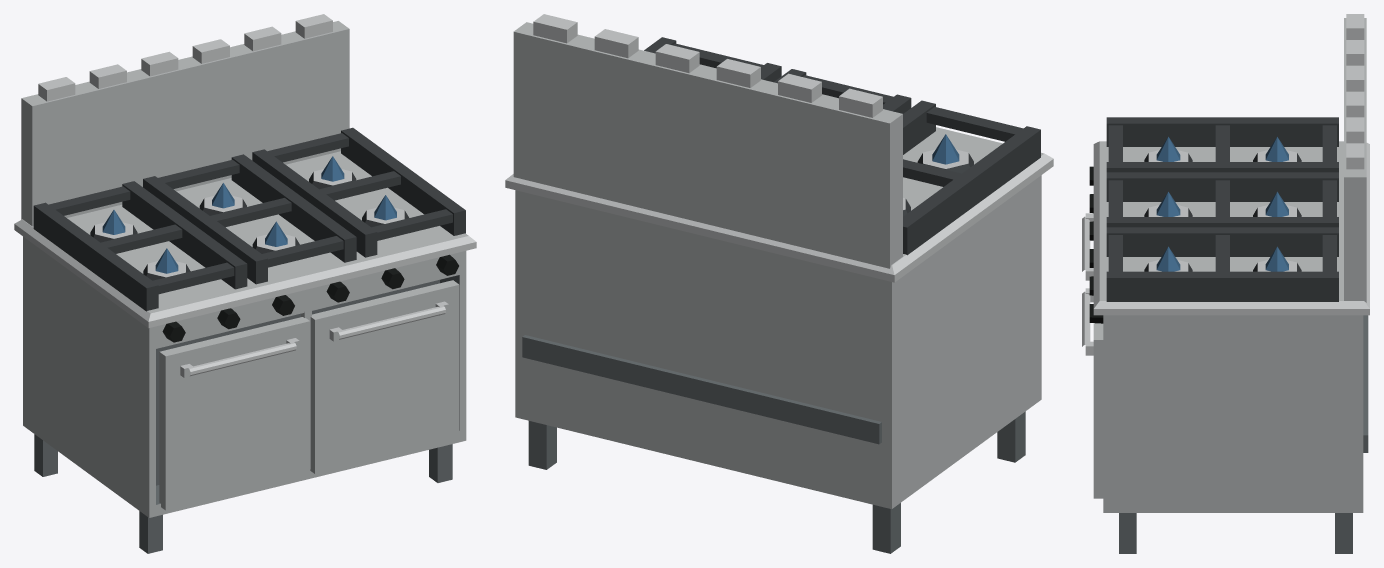
The model's file is commercial-range-a3b2d8.glb.
3 renders of one model, left to right at view 1: azimuth 30°, elevation 25°; view 2: azimuth 150°, elevation 25°; view 3: azimuth 270°, elevation 25°, orthographic. The views are drawn at different scales.
Visible parts, largest first — view 1: commercial-range, grates, door-l, door-r; view 2: commercial-range, grates; view 3: commercial-range, grates, door-r, door-l.
Boxes of the visible parts, x1,y1,x2,y2 form: commercial-range: (14,14,476,553); grates: (33,127,465,311); door-l: (159,317,309,510); door-r: (310,280,459,473); commercial-range: (505,14,1053,553); grates: (644,37,1040,255); commercial-range: (1089,14,1369,553); grates: (1106,117,1338,301); door-r: (1082,288,1103,498); door-l: (1082,213,1093,280).
Bounding box in the file's own units: 1.2 × 1.33 × 0.8859.
